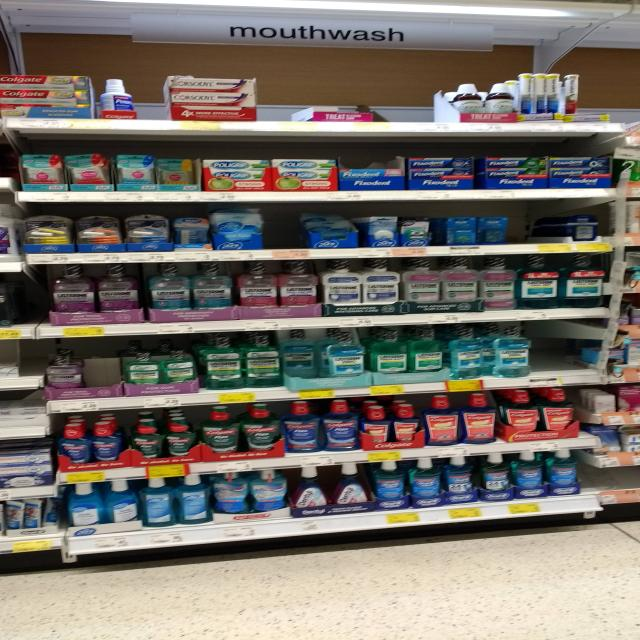void: (0, 275, 45, 338), (584, 465, 640, 509), (532, 320, 568, 387), (379, 73, 413, 134), (414, 73, 447, 133), (265, 204, 299, 261), (568, 324, 600, 384), (535, 199, 564, 253), (509, 199, 534, 254)
